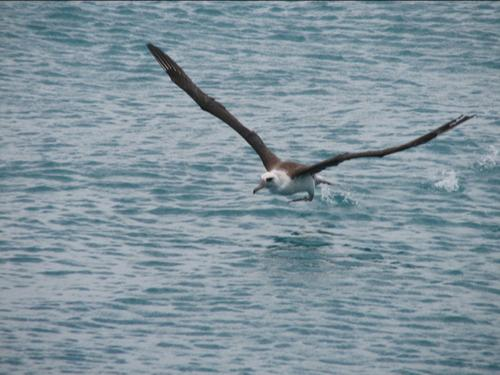bird: (137, 35, 486, 213)
